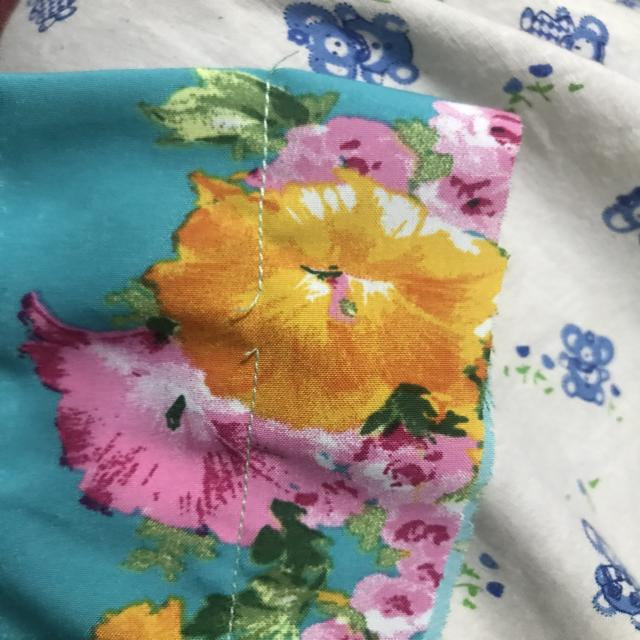broken: (214, 271, 298, 381)
